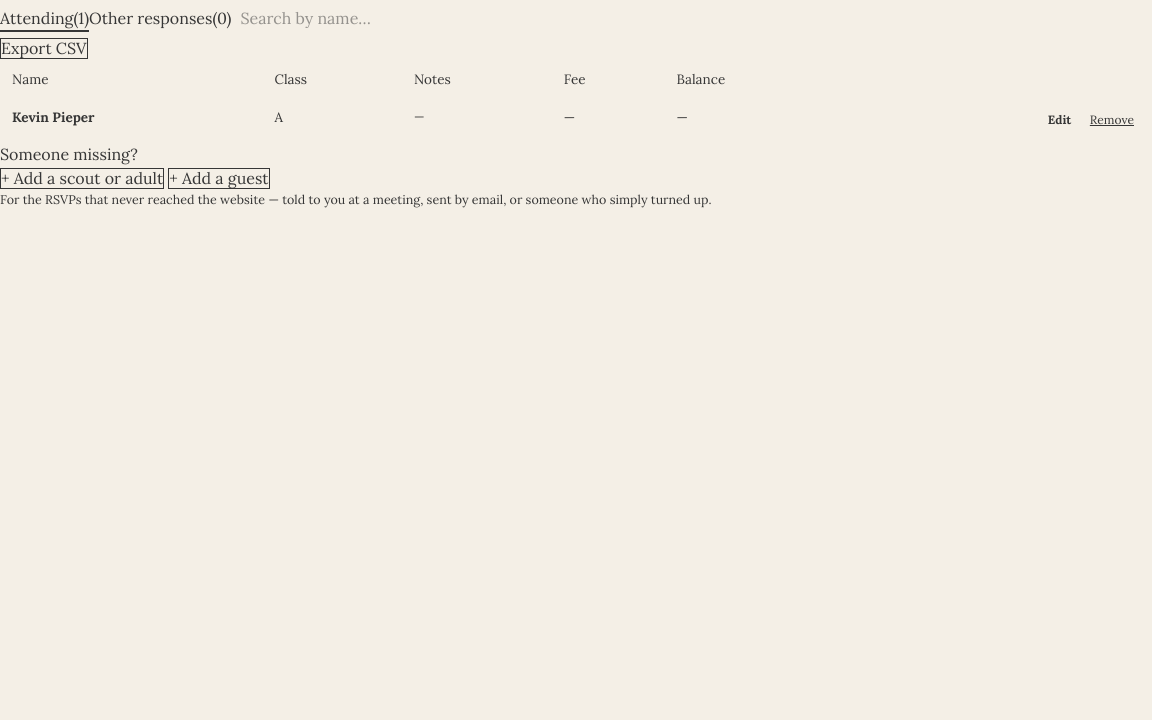
Scenario: Roster grid — no job columns (Patrick, 2026-08-25) › EditDialog_JobList_ShowsTheCodeInParenthesesAfterEachLabel
Click the button "Edit": x=1060, y=120 left=1039, top=107, right=1080, bottom=133
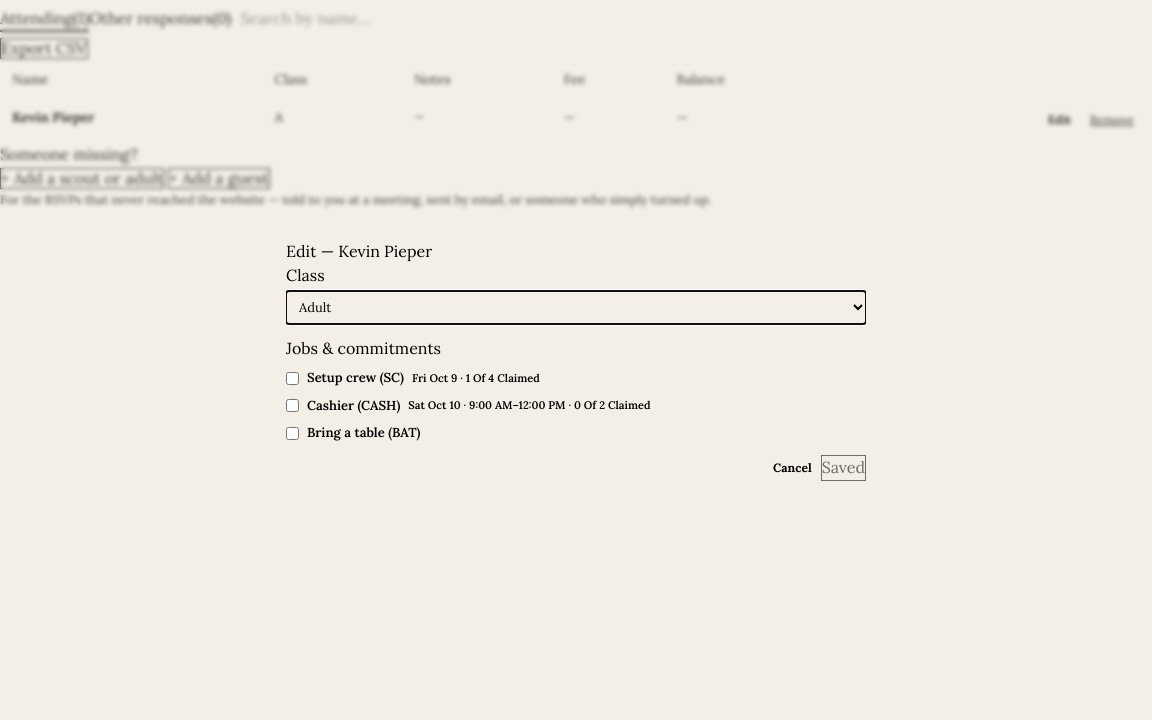
Check: the checkbox labelled "Cashier (CASH)" is shown, box left=286, top=399, right=299, bottom=412
